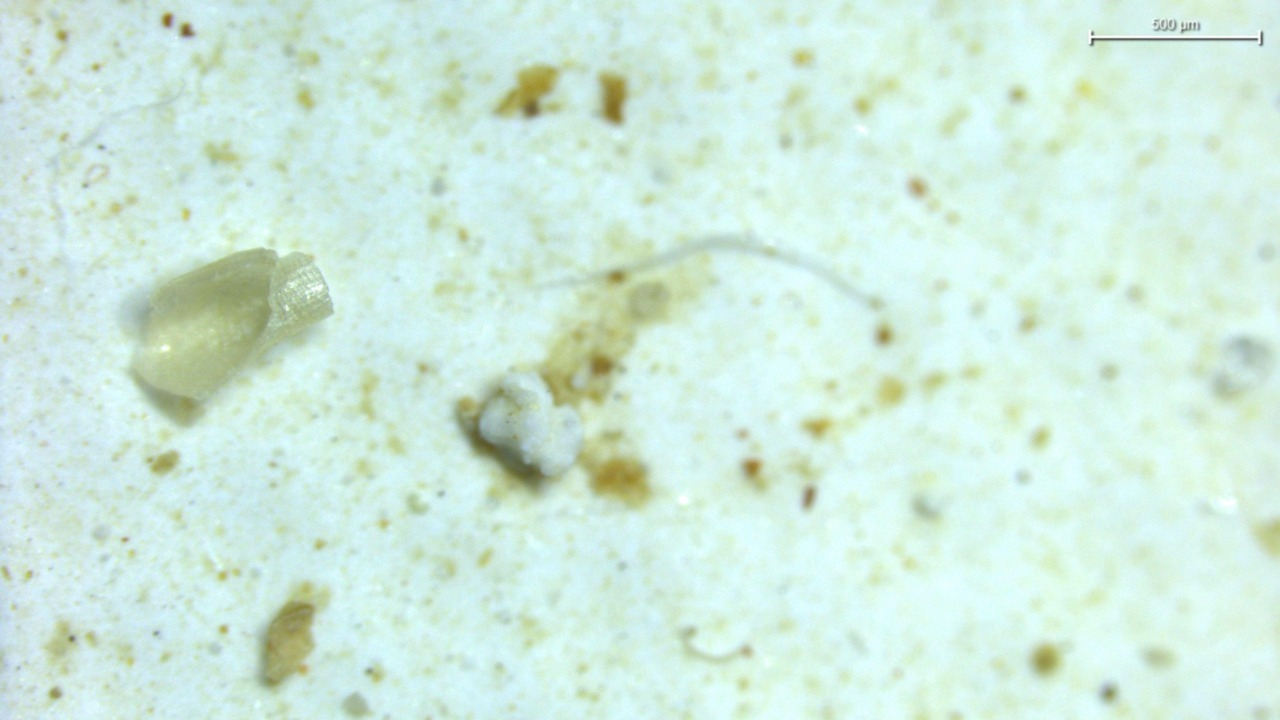microplastic_fragment: (133, 248, 332, 400)
